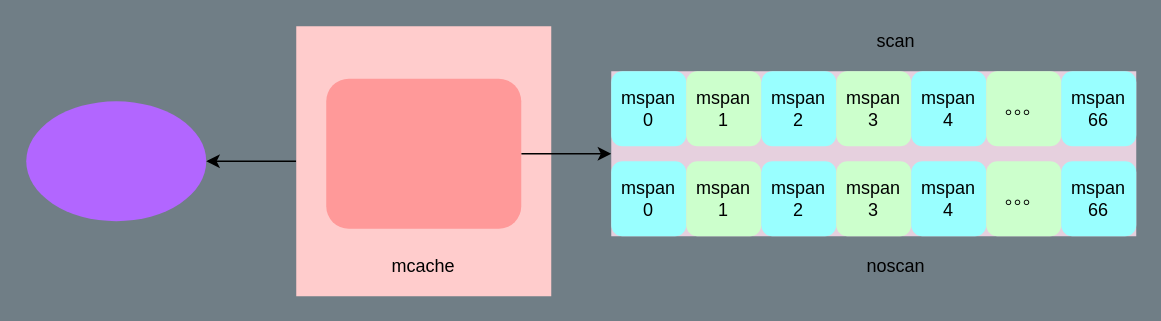
Some shapes in this 1161 by 321 pixel diagram are drawn without their labels. Here are the shapes that lost their labels. From the top down, the box of each, then its label:
(26, 100, 206, 220): P Logic Processor
(326, 78, 520, 228): Alloc
